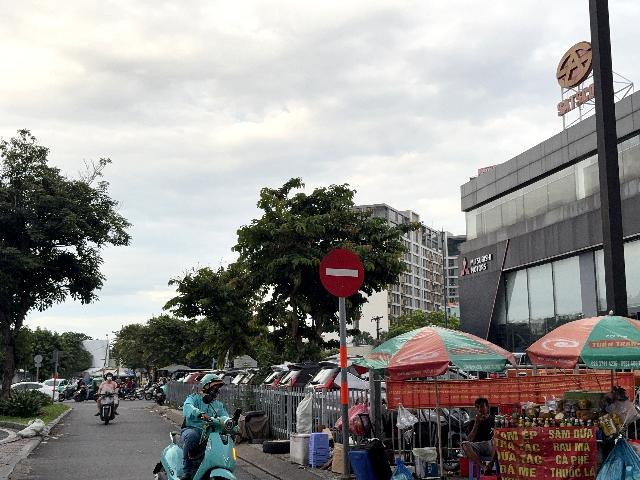cam-di-nguoc-chieu: (318, 249, 364, 297)
